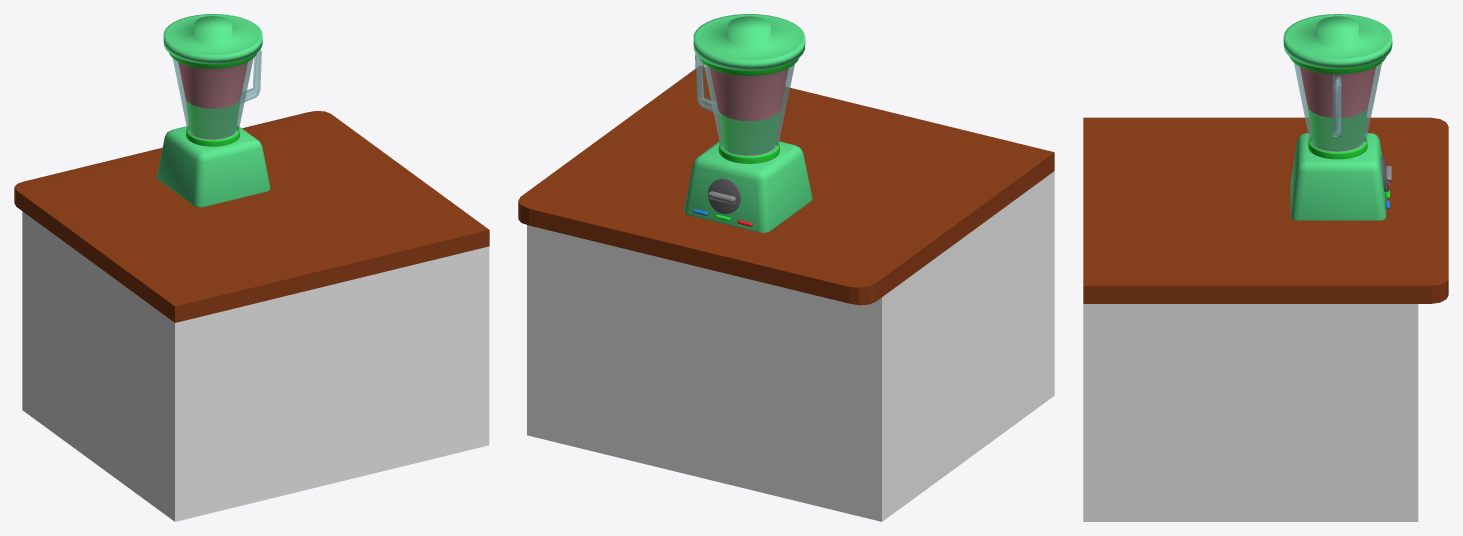
Rendered from newblender.glb.
The picture shows the model from 3 angles, left to right: view 1: azimuth 30°, elevation 25°; view 2: azimuth 150°, elevation 25°; view 3: azimuth 270°, elevation 25°; orthographic projection. The views are drawn at different scales.
Visible parts, largest first — view 1: Cube.010, Cube.002, Cylinder, Cylinder.005, Cylinder.007; view 2: Cube.010, Cube.002, Cylinder, Cylinder.005, Cylinder.007, Cylinder.006, Cube.008; view 3: Cube.010, Cube.002, Cylinder, Cylinder.005, Cylinder.007, Cube.008.
Part boxes in pixels (x1,y1,x2,y2): Cube.010: (14,111,489,521); Cube.002: (156,126,270,207); Cylinder: (169,53,256,146); Cylinder.005: (163,14,262,64); Cylinder.007: (178,62,247,139); Cube.010: (518,66,1054,521); Cube.002: (684,141,812,232); Cylinder: (699,57,799,163); Cylinder.005: (693,14,805,70); Cylinder.007: (710,68,788,155); Cylinder.006: (708,178,740,214); Cube.008: (695,54,718,114); Cube.010: (1083,117,1448,521); Cube.002: (1290,133,1386,220); Cylinder: (1289,56,1386,159); Cylinder.005: (1283,14,1392,68); Cylinder.007: (1299,66,1376,151); Cube.008: (1333,75,1341,136).
Size of the model in its own units: 0.9991 by 1.14 by 0.9181.
